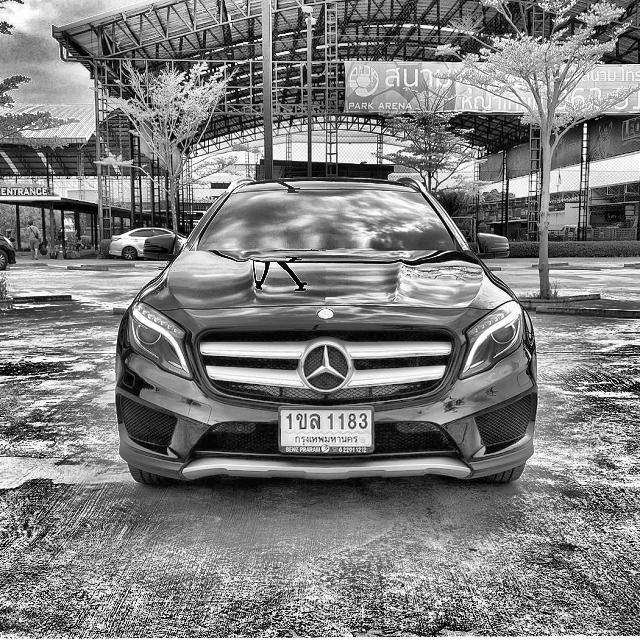license-plate: (278, 405, 378, 454)
